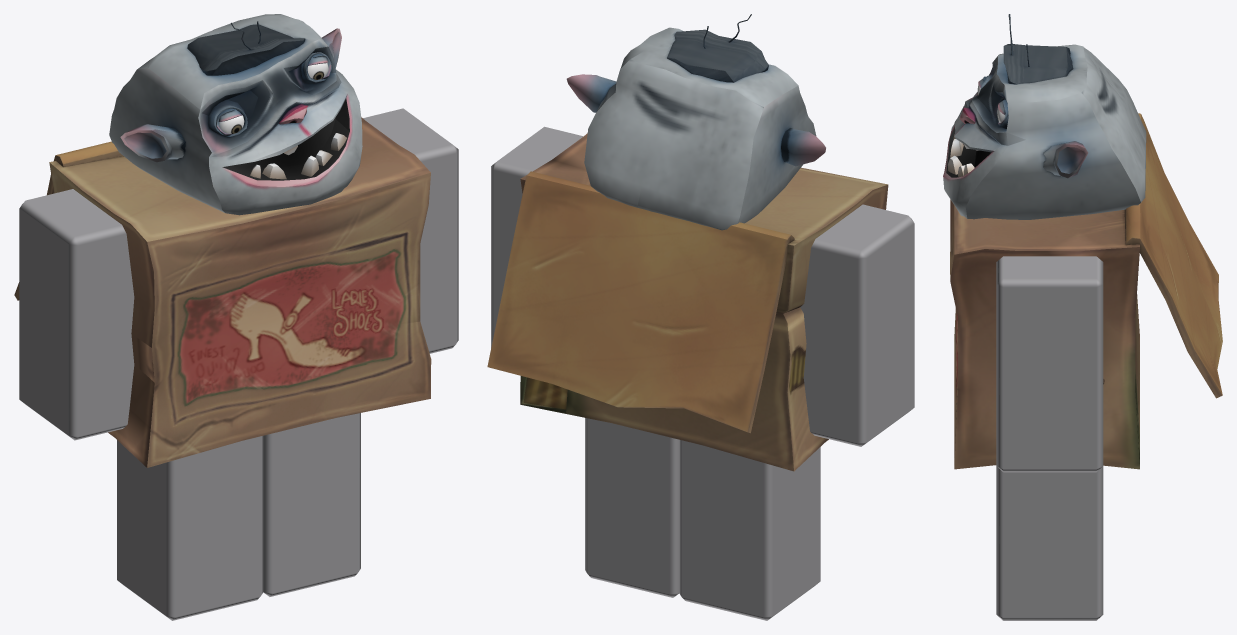
The model's file is bundle_171_shoe_the_boxtroll.obj.
The picture shows the model from 3 angles, left to right: view 1: azimuth 30°, elevation 25°; view 2: azimuth 150°, elevation 25°; view 3: azimuth 270°, elevation 25°; orthographic projection. The views are drawn at different scales.
Parts seen in each view (by area): view 1: Bundle171shoetheboxtroll5, Handle1, Bundle171shoetheboxtroll3, Bundle171shoetheboxtroll1, Bundle171shoetheboxtroll2, Bundle171shoetheboxtroll4; view 2: Bundle171shoetheboxtroll5, Handle1, Bundle171shoetheboxtroll3, Bundle171shoetheboxtroll1, Bundle171shoetheboxtroll2, Bundle171shoetheboxtroll4; view 3: Bundle171shoetheboxtroll5, Handle1, Bundle171shoetheboxtroll4, Bundle171shoetheboxtroll2.
Boxes of the visible parts, x1=… form: Bundle171shoetheboxtroll5: x1=14, y1=117, x2=431, y2=467; Handle1: x1=109, y1=14, x2=362, y2=215; Bundle171shoetheboxtroll3: x1=19, y1=189, x2=134, y2=440; Bundle171shoetheboxtroll1: x1=117, y1=435, x2=263, y2=620; Bundle171shoetheboxtroll2: x1=263, y1=413, x2=360, y2=596; Bundle171shoetheboxtroll4: x1=363, y1=108, x2=458, y2=353; Bundle171shoetheboxtroll5: x1=487, y1=133, x2=888, y2=471; Handle1: x1=566, y1=14, x2=825, y2=230; Bundle171shoetheboxtroll3: x1=800, y1=204, x2=914, y2=446; Bundle171shoetheboxtroll1: x1=679, y1=439, x2=820, y2=620; Bundle171shoetheboxtroll2: x1=585, y1=418, x2=679, y2=597; Bundle171shoetheboxtroll4: x1=491, y1=126, x2=583, y2=348; Bundle171shoetheboxtroll5: x1=950, y1=113, x2=1222, y2=469; Handle1: x1=943, y1=14, x2=1146, y2=219; Bundle171shoetheboxtroll4: x1=996, y1=256, x2=1103, y2=472; Bundle171shoetheboxtroll2: x1=996, y1=466, x2=1103, y2=620.
Bounding box in the file's own units: 4 × 5.69 × 2.62.
Materials: 2 (2 with a texture image).
